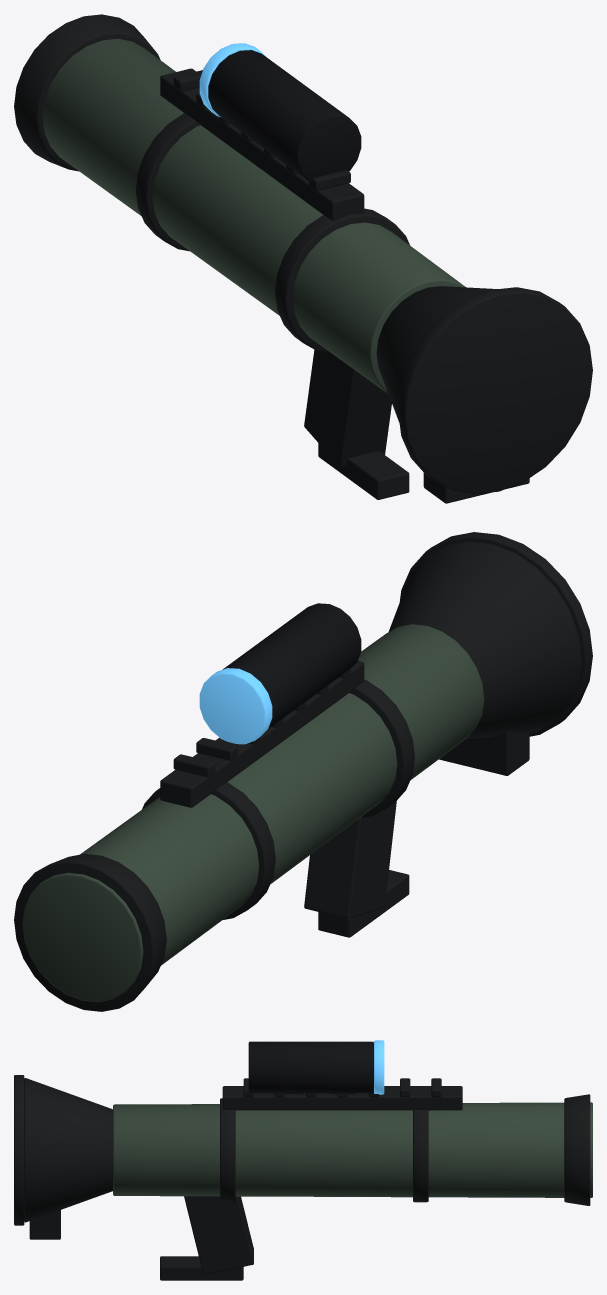
Rendered from rocket.glb.
3 renders of one model, top to bottom at view 1: azimuth 30°, elevation 25°; view 2: azimuth 150°, elevation 25°; view 3: azimuth 270°, elevation 25°, orthographic. The views are drawn at different scales.
Parts seen in each view (by area): view 1: body; view 2: body; view 3: body.
Part boxes in pixels (<box>): body: <box>14,14,592,503</box>; body: <box>14,532,592,1011</box>; body: <box>14,1040,592,1280</box>.
Size of the model in its own units: 0.29 by 0.492 by 1.11.
